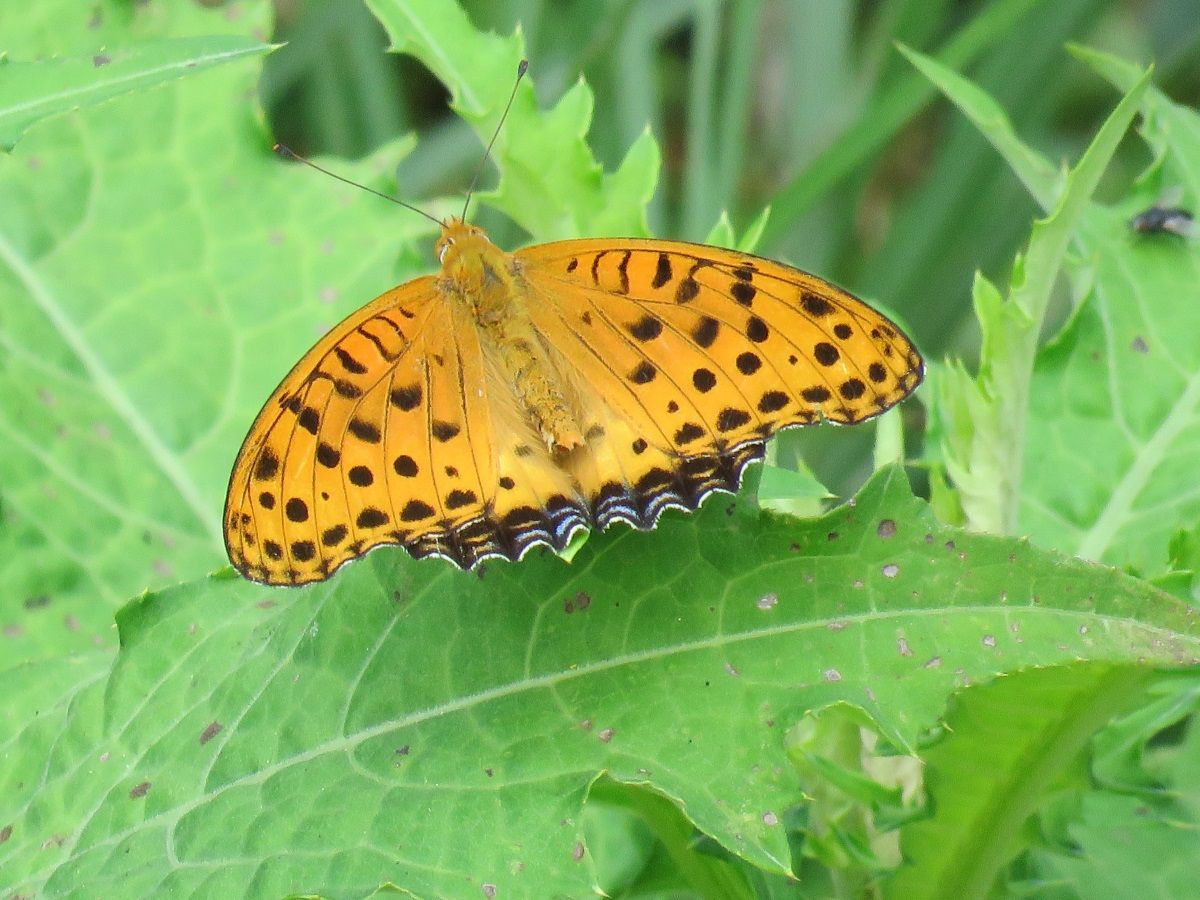Argyreus hyperbius: (209, 54, 927, 597)
butterfly: (211, 56, 929, 599)
